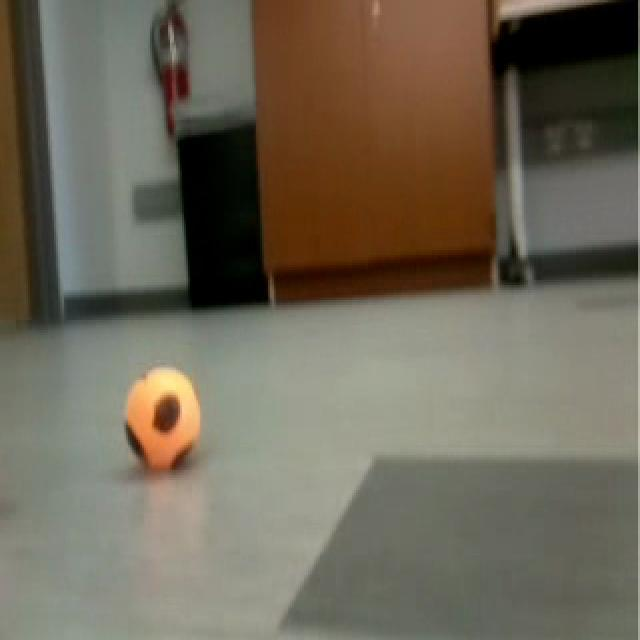ping-pong-ball: (114, 356, 210, 478)
